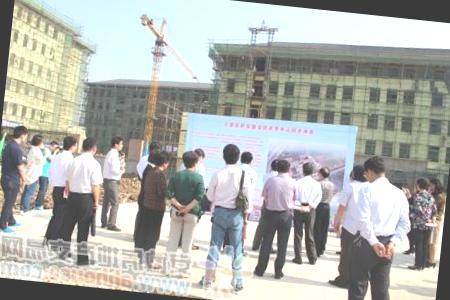no_helmet: (359, 154, 389, 186), (220, 140, 242, 167), (10, 123, 31, 146), (179, 148, 200, 170), (80, 134, 100, 157), (429, 174, 448, 196), (60, 135, 80, 155), (238, 148, 256, 170), (29, 130, 48, 150), (108, 132, 126, 152), (156, 149, 172, 169), (415, 173, 431, 192), (146, 145, 160, 166), (350, 162, 364, 183), (300, 160, 316, 178), (276, 158, 292, 176), (317, 162, 332, 181), (267, 154, 279, 173)
